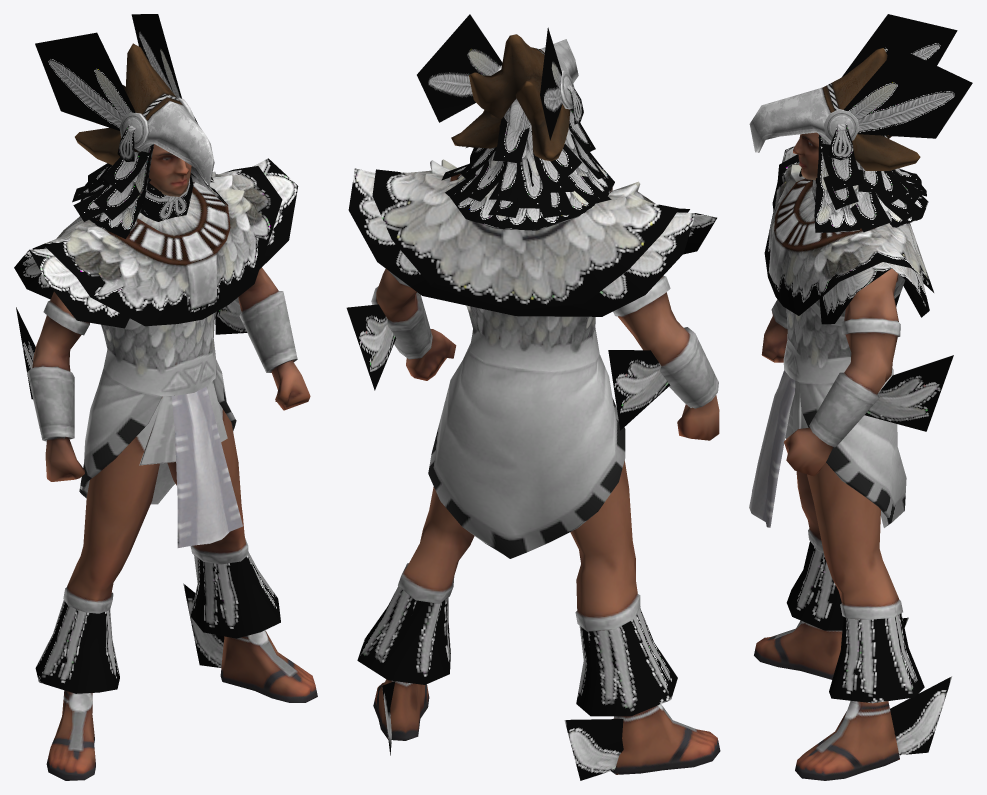
The model's file is body-heavynobleshutsoldiers.glb.
3 views of the same model, side by side, from view 1: azimuth 30°, elevation 25°; view 2: azimuth 150°, elevation 25°; view 3: azimuth 270°, elevation 25° (orthographic). The views are drawn at different scales.
Bounding box in the file's own units: 1.01 × 2.28 × 0.6782.
2 materials, 2 textured.
